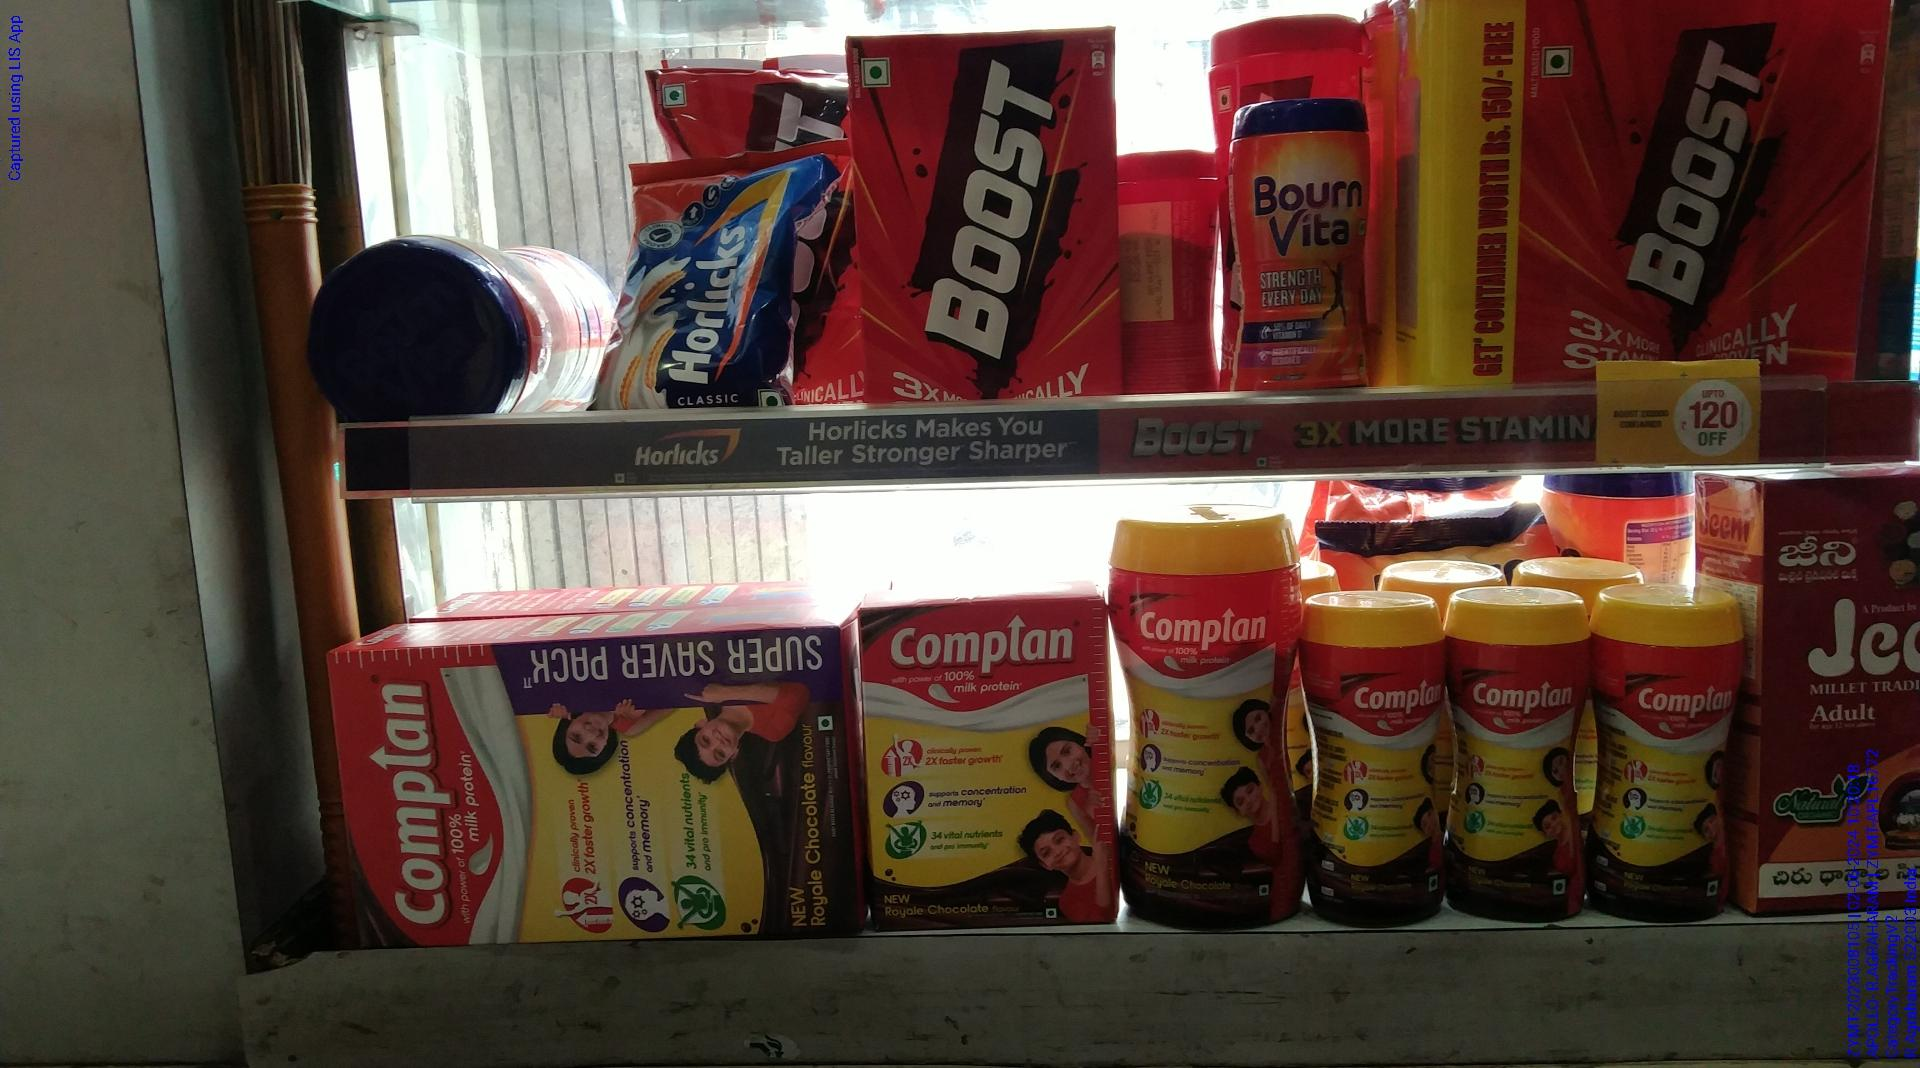COMPLAN_CHOCOLATE_200_GMS_JAR: (1596, 583, 1735, 919), (1448, 587, 1585, 918), (1303, 591, 1437, 926)
